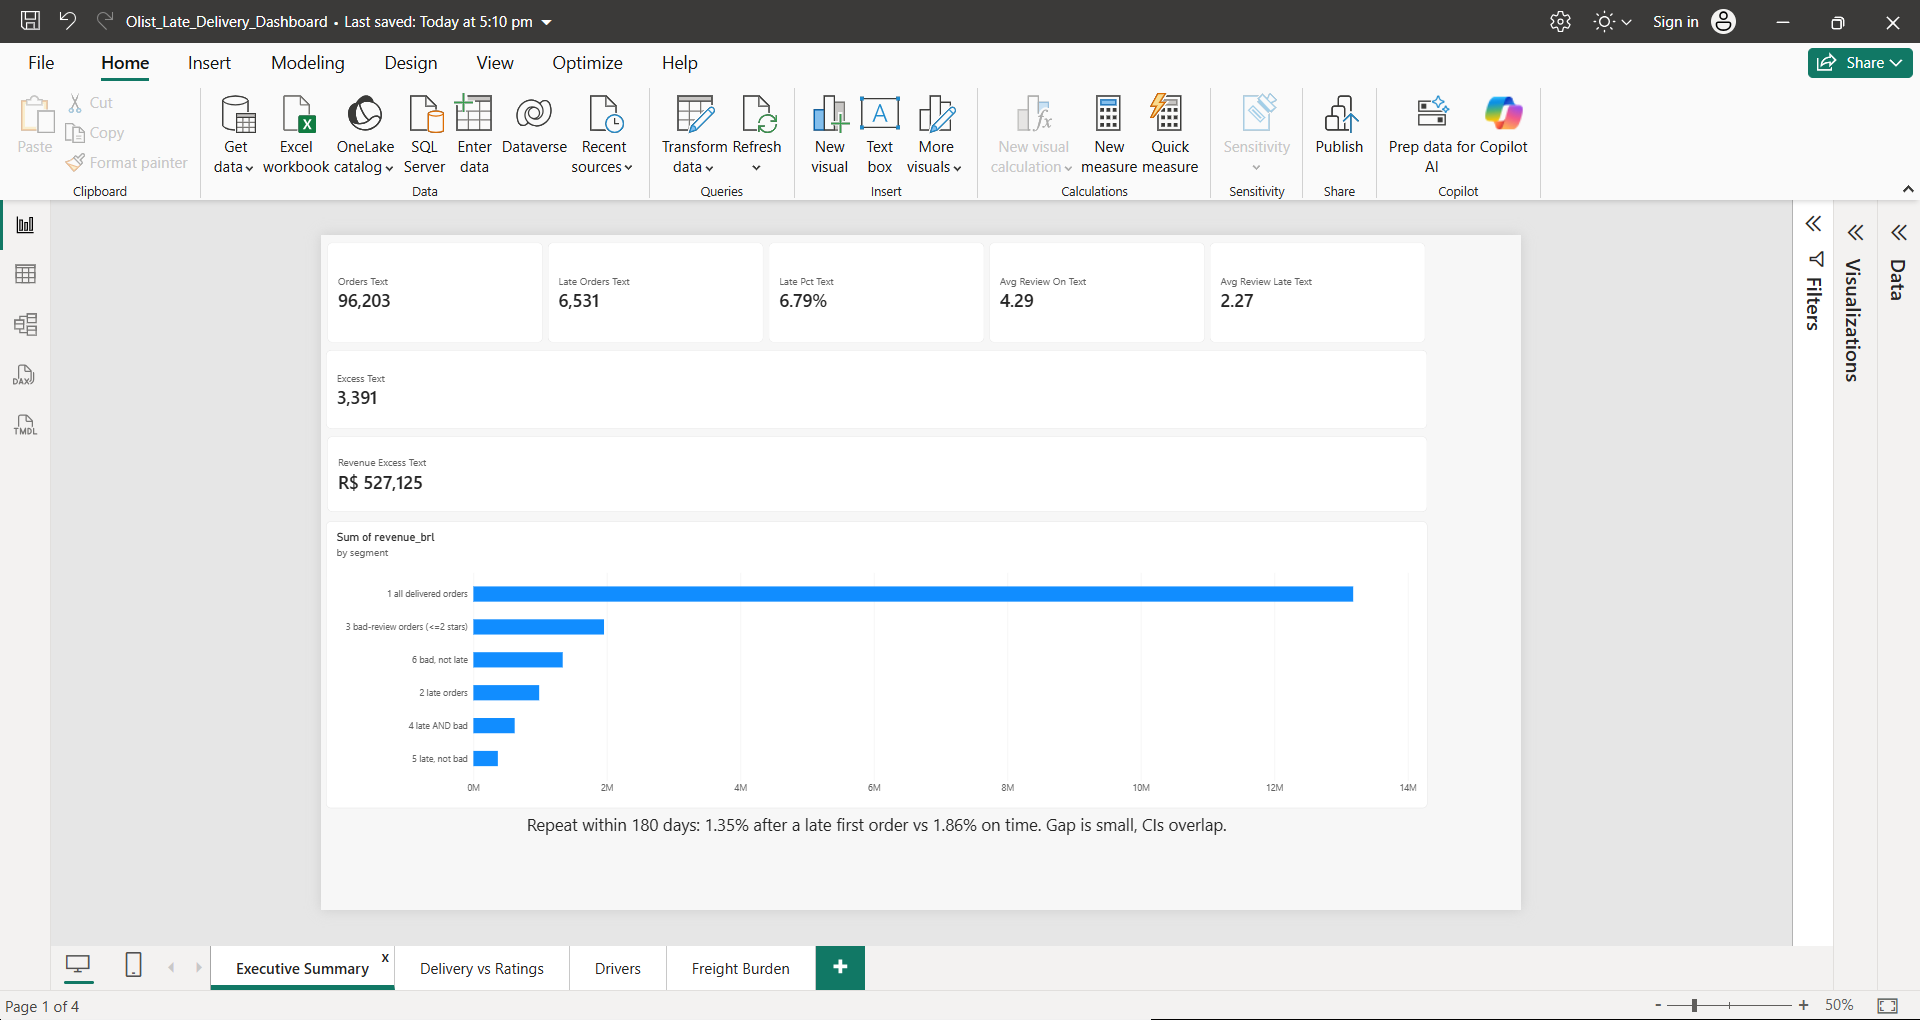

This screenshot's page, from the dashboard's own definition file:
{"tool":"powerbi","page":{"name":"Executive Summary","canvas":[1920,1080],"ordinal":0},"visuals":[{"type":"cardVisual","fields":{"Data":["02_overall.Orders Text","02_overall.Late Orders Text","02_overall.Late Pct Text","02_overall.Avg Review On Text","02_overall.Avg Review Late Text"]},"box":[9.8,11.5,1760.7,160.7],"z":0},{"type":"cardVisual","fields":{"Data":["06_excess.Excess Text"]},"box":[8.2,183.6,1762.3,126.2],"z":1000},{"type":"cardVisual","fields":{"Data":["06_excess.Revenue Excess Text"]},"box":[9.8,323,1760.7,121.3],"z":2000},{"type":"clusteredBarChart","fields":{"Category":["06_revenue_seg.segment"],"Y":["Sum(06_revenue_seg.revenue_brl)"]},"box":[8.2,457.4,1762.3,459],"z":2001},{"type":"textbox","box":[8.2,924.6,1762.3,155.7],"z":2002}]}

Visuals, with their boxes on the page's 1920x1080 design canvas (x1, y1, x2, y2). These are canvas units, not pixel positions in the 1920x1020 screenshot, which may show the page scaled, cropped or inside an application window:
cardVisual - 02_overall.Orders Text x 02_overall.Late Orders Text: (10, 12, 1770, 172)
cardVisual - 06_excess.Excess Text: (8, 184, 1770, 310)
cardVisual - 06_excess.Revenue Excess Text: (10, 323, 1770, 444)
clusteredBarChart - 06_revenue_seg.segment x Sum(06_revenue_seg.revenue_brl): (8, 457, 1770, 916)
textbox: (8, 925, 1770, 1080)
